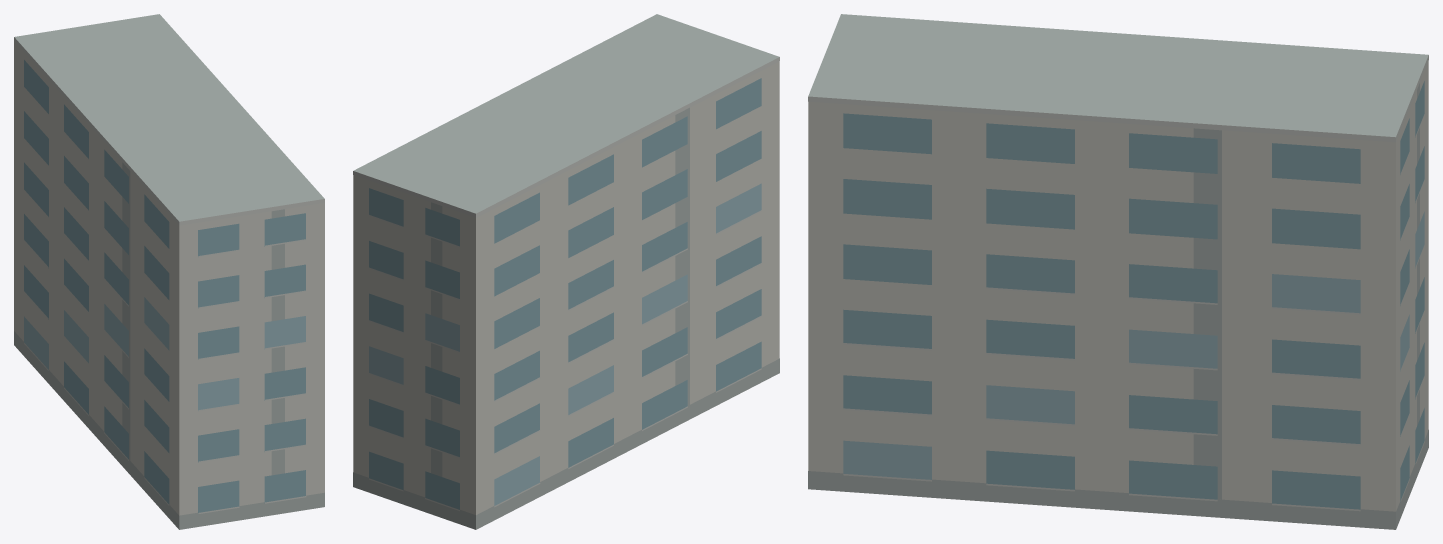
Rendered from survey-upis-32995033.glb.
The picture shows the model from 3 angles, left to right: view 1: azimuth 30°, elevation 25°; view 2: azimuth 150°, elevation 25°; view 3: azimuth 270°, elevation 25°; orthographic projection. The views are drawn at different scales.
Visible parts, largest first — view 1: survey-upis-32995033.tmp; view 2: survey-upis-32995033.tmp; view 3: survey-upis-32995033.tmp.
Part boxes in pixels (<box>): survey-upis-32995033.tmp: <box>14,14,324,529</box>; survey-upis-32995033.tmp: <box>353,14,779,529</box>; survey-upis-32995033.tmp: <box>808,14,1428,529</box>.
Bounding box in the file's own units: 12.32 × 18.3 × 26.22.
